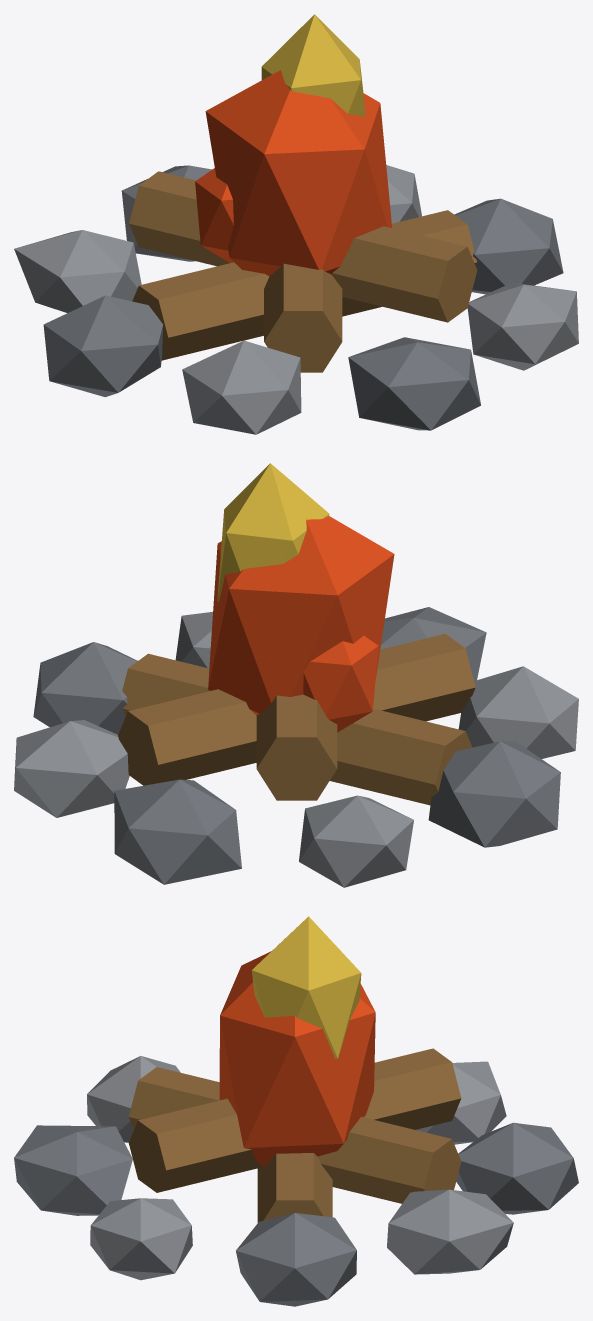
File: campfire.fbx
The picture shows the model from 3 angles, top to bottom: view 1: azimuth 30°, elevation 25°; view 2: azimuth 150°, elevation 25°; view 3: azimuth 270°, elevation 25°; orthographic projection. The views are drawn at different scales.
Visible parts, largest first — view 1: campfire; view 2: campfire; view 3: campfire.
Boxes of the visible parts, <box> form: campfire: <box>14,14,578,434</box>; campfire: <box>14,463,578,887</box>; campfire: <box>14,916,578,1306</box>.
Size of the model in its own units: 2.44 by 1.51 by 2.49.
